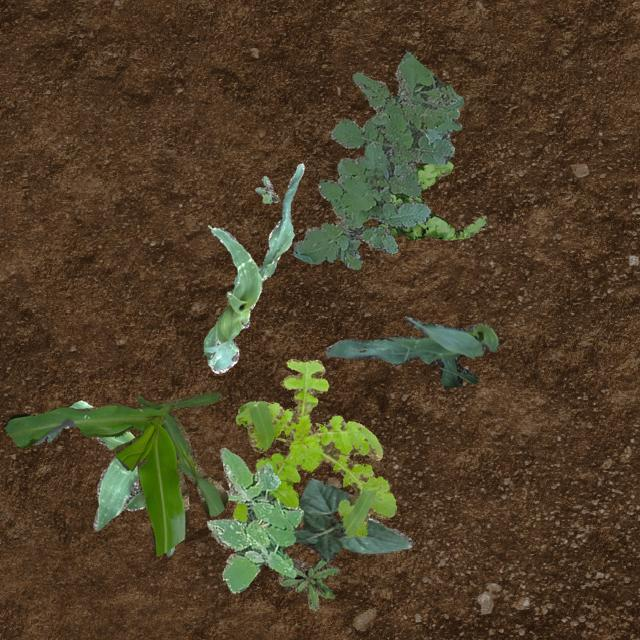crop: (2, 390, 226, 554), (202, 162, 304, 372), (44, 400, 174, 554), (324, 316, 498, 386), (292, 478, 412, 560)
weed: (292, 50, 462, 268), (232, 358, 396, 536), (206, 446, 302, 592), (378, 160, 487, 238), (278, 554, 338, 610), (254, 175, 278, 202)
